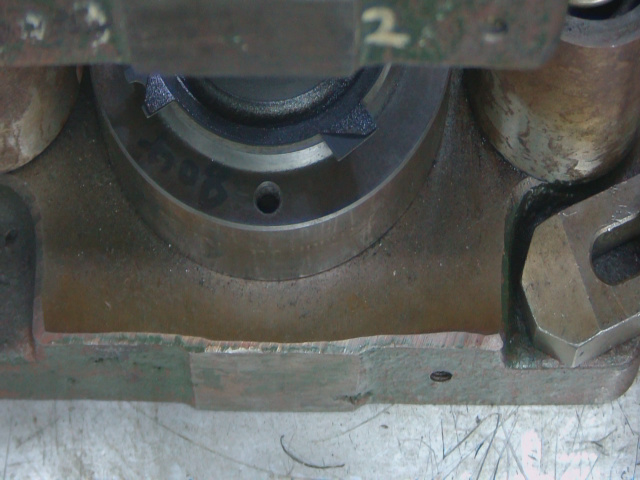HX3: (319, 107, 389, 169)
